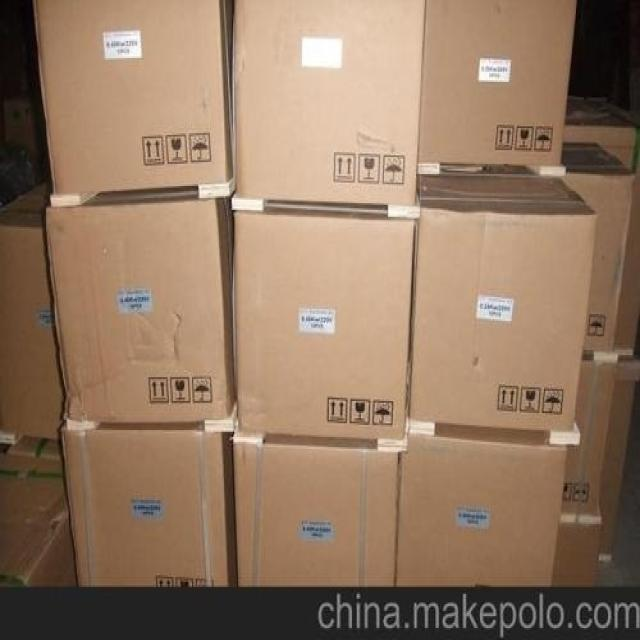box: (406, 162, 598, 430), (46, 184, 236, 422), (232, 201, 415, 440), (230, 0, 425, 203), (31, 0, 234, 193), (61, 422, 238, 587), (396, 423, 567, 587), (233, 432, 401, 587), (419, 0, 577, 164), (0, 179, 68, 439), (550, 350, 617, 587), (562, 142, 635, 352), (0, 454, 78, 591), (596, 382, 635, 568), (563, 96, 640, 172), (614, 171, 640, 348)
